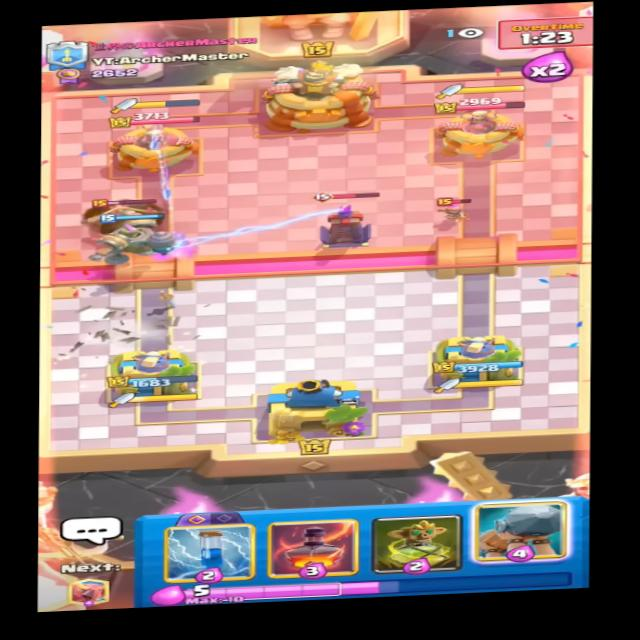archer: (438, 198, 472, 224)
evo-tesla: (302, 191, 386, 253)
x-bow: (80, 194, 164, 245)
